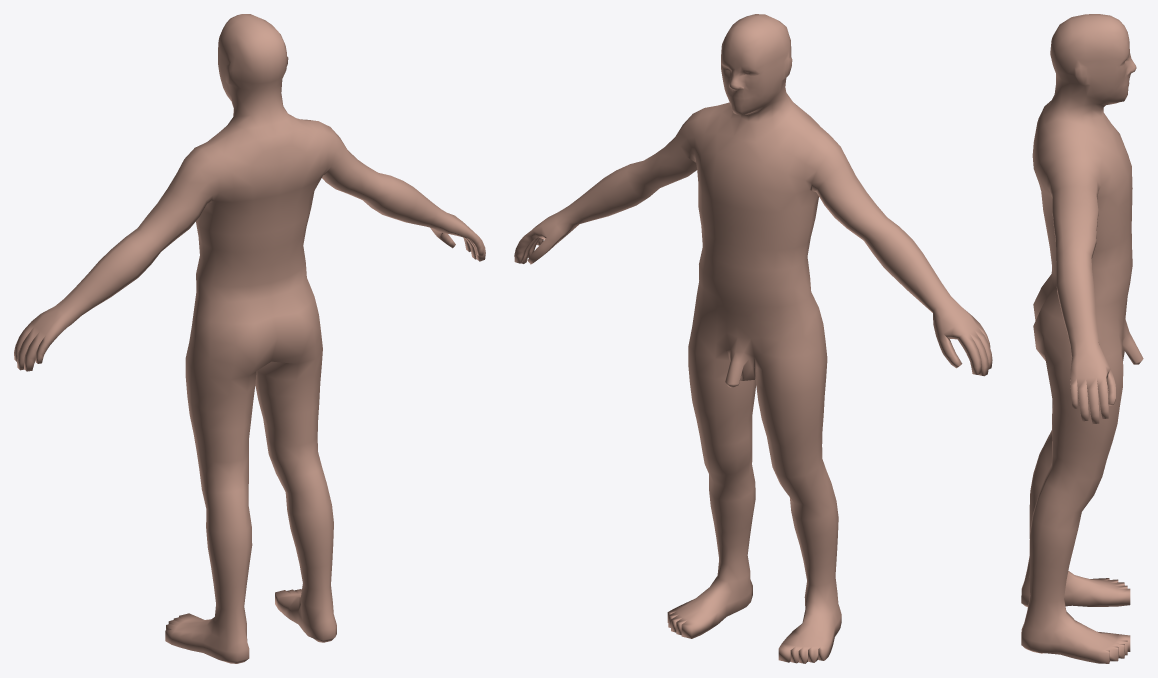
The model's file is character_man.fbx.
3 views of the same model, side by side, from view 1: azimuth 30°, elevation 25°; view 2: azimuth 150°, elevation 25°; view 3: azimuth 270°, elevation 25° (orthographic).
Parts seen in each view (by area): view 1: CharacterMale:man; view 2: CharacterMale:man; view 3: CharacterMale:man.
Part boxes in pixels (x1,y1,x2,y2): CharacterMale:man: [14, 14, 485, 663]; CharacterMale:man: [514, 14, 992, 663]; CharacterMale:man: [1021, 14, 1143, 663].
Bounding box in the file's own units: 144 × 182 × 32.94.
